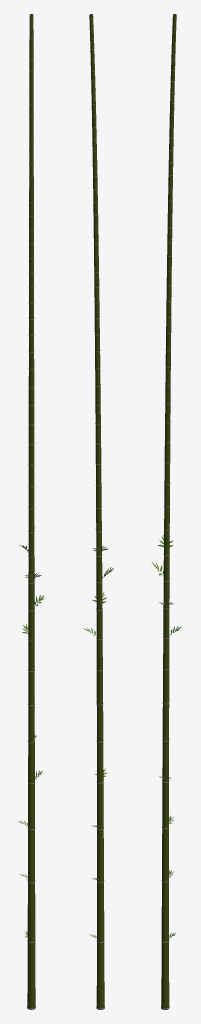
Rendered from Baum Dünn.fbx.
3 renders of one model, left to right at view 1: azimuth 90°, elevation 25°; view 2: azimuth 150°, elevation 25°; view 3: azimuth 330°, elevation 25°, orthographic.
Visible parts, largest first — view 1: BambusBaum.011; view 2: BambusBaum.011; view 3: BambusBaum.011.
Part boxes in pixels (bbox=[...]): BambusBaum.011: bbox=[18, 14, 45, 1009]; BambusBaum.011: bbox=[83, 14, 113, 1009]; BambusBaum.011: bbox=[151, 14, 182, 1009].
Bounding box in the file's own units: 102 × 2758 × 92.55.
Materials: 3 (1 with a texture image).
